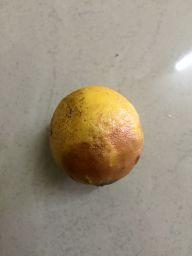lemon: (47, 85, 151, 189)
